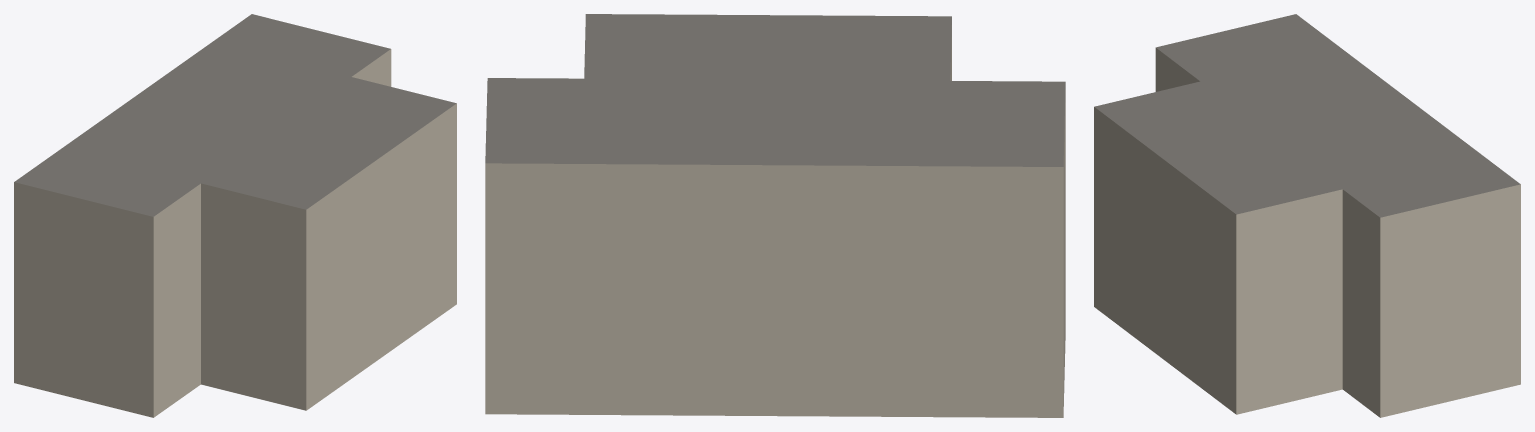
The picture shows the model from 3 angles, left to right: view 1: azimuth 30°, elevation 25°; view 2: azimuth 150°, elevation 25°; view 3: azimuth 270°, elevation 25°; orthographic projection. The views are drawn at different scales.
Parts seen in each view (by area): view 1: HP-w859488873; view 2: HP-w859488873; view 3: HP-w859488873.
Boxes of the visible parts, <box> form: HP-w859488873: <box>14,14,456,417</box>; HP-w859488873: <box>485,14,1065,417</box>; HP-w859488873: <box>1094,14,1520,417</box>.
Bounding box in the file's own units: 39.29 × 18 × 34.77.
